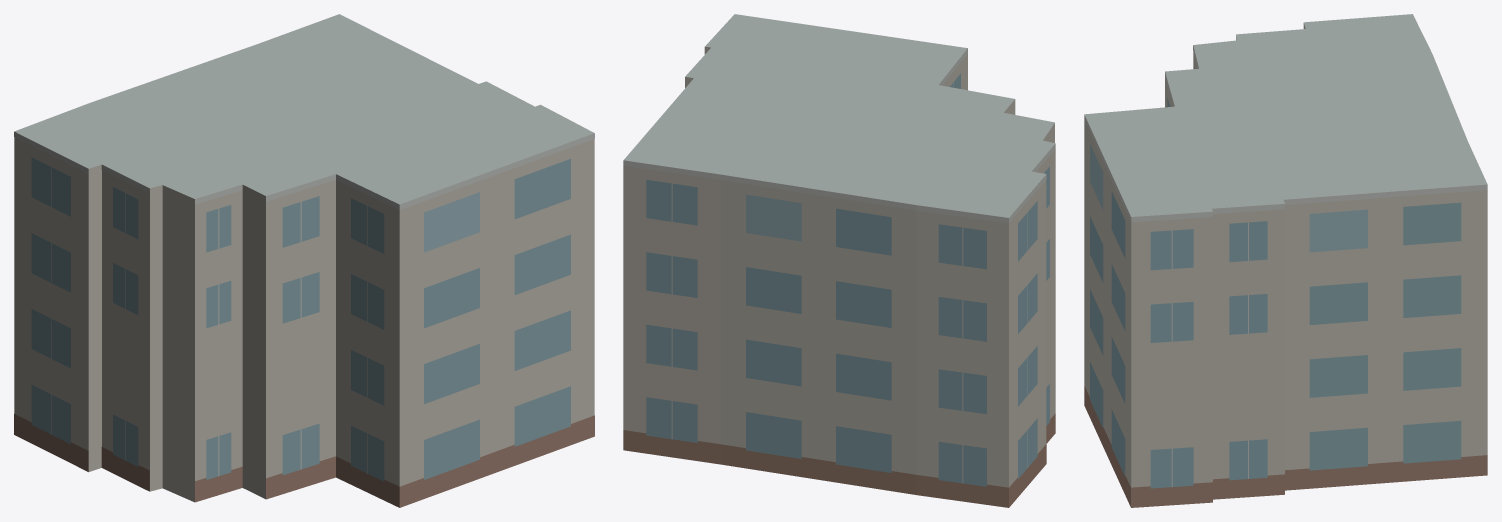
File: survey-upis-32598241.glb
3 views of the same model, side by side, from view 1: azimuth 30°, elevation 25°; view 2: azimuth 150°, elevation 25°; view 3: azimuth 270°, elevation 25° (orthographic). The views are drawn at different scales.
Parts seen in each view (by area): view 1: survey-upis-32598241.tmp; view 2: survey-upis-32598241.tmp; view 3: survey-upis-32598241.tmp.
Boxes of the visible parts, box(x1,y1,x2,y2) form: survey-upis-32598241.tmp: box(14, 14, 594, 507); survey-upis-32598241.tmp: box(623, 14, 1055, 507); survey-upis-32598241.tmp: box(1084, 14, 1487, 507).
Size of the model in its own units: 19.65 by 13.12 by 16.5.
